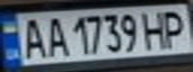1: (66, 12, 87, 55)
3: (103, 11, 124, 53)
7: (84, 11, 103, 54)
9: (118, 10, 142, 52)
A: (18, 15, 48, 60), (42, 14, 69, 58)
H: (139, 8, 172, 51)
P: (157, 7, 193, 48)
